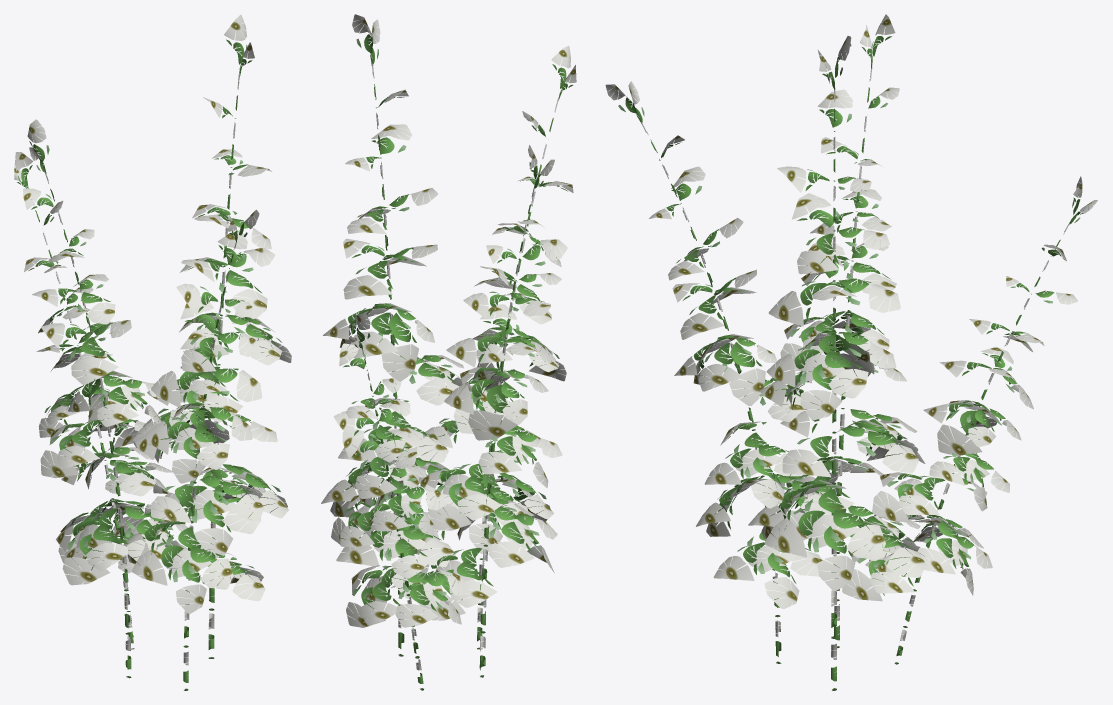
3 renders of one model, left to right at view 1: azimuth 30°, elevation 25°; view 2: azimuth 150°, elevation 25°; view 3: azimuth 270°, elevation 25°, orthographic. The views are drawn at different scales.
Visible parts, largest first — view 1: bamboo002, bamboo001, bamboo, bamboo003; view 2: bamboo001, bamboo, bamboo003, bamboo002; view 3: bamboo, bamboo002, bamboo003, bamboo001.
Boxes of the visible parts, <box> form: bamboo002: <box>123,209,265,690</box>; bamboo001: <box>23,119,187,678</box>; bamboo: <box>124,14,291,658</box>; bamboo003: <box>14,152,187,649</box>; bamboo001: <box>416,145,567,677</box>; bamboo: <box>321,14,471,656</box>; bamboo003: <box>331,313,469,690</box>; bamboo002: <box>408,46,576,649</box>; bamboo: <box>748,36,926,690</box>; bamboo002: <box>605,81,835,663</box>; bamboo003: <box>842,176,1097,664</box>; bamboo001: <box>768,14,925,648</box>.
Bounding box in the file's own units: 654 × 1655 × 1100.
